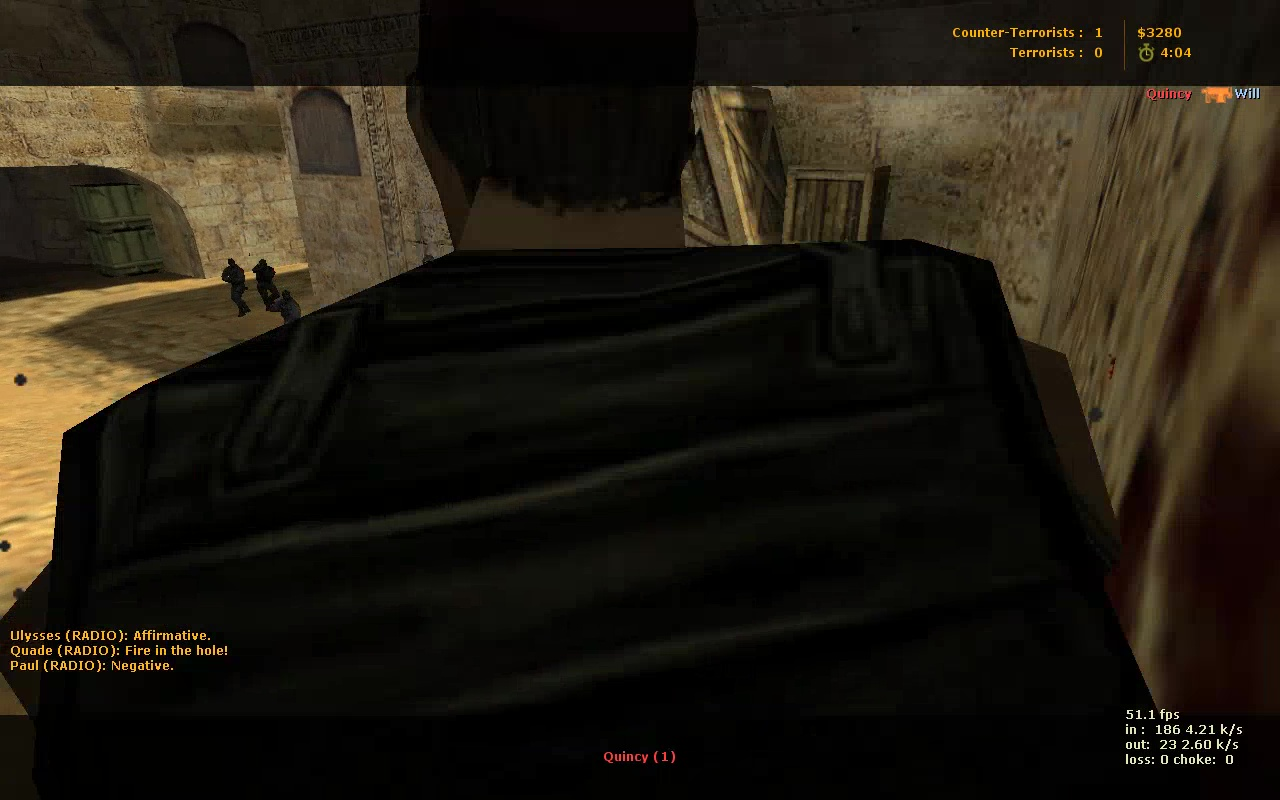ct: (220, 256, 250, 316), (254, 256, 279, 314), (279, 294, 302, 322)
